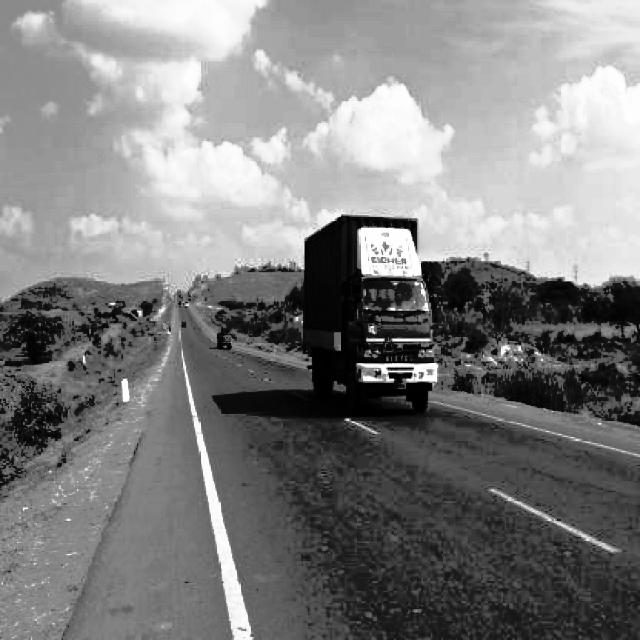HCV: (298, 244, 446, 418)
